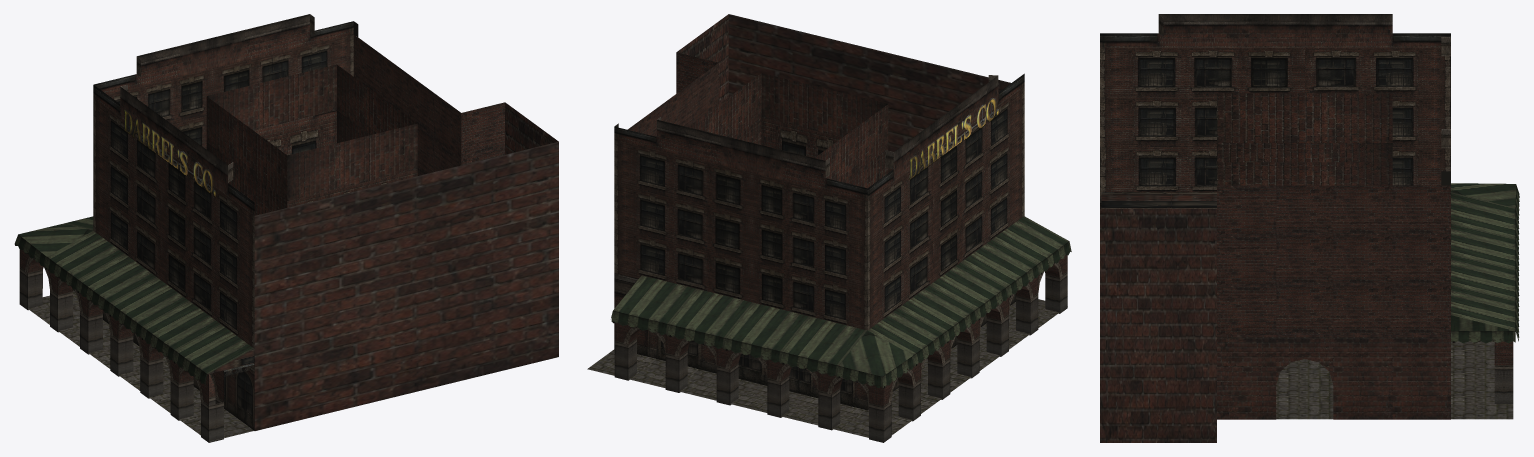
3 renders of one model, left to right at view 1: azimuth 30°, elevation 25°; view 2: azimuth 150°, elevation 25°; view 3: azimuth 270°, elevation 25°, orthographic. The views are drawn at different scales.
Parts seen in each view (by area): view 1: B003; view 2: B003; view 3: B003.
Boxes of the visible parts, bbox=[...] form: B003: bbox=[14, 14, 558, 442]; B003: bbox=[587, 14, 1071, 442]; B003: bbox=[1100, 14, 1519, 442].
Size of the model in its own units: 8.07 by 5.41 by 7.64.
2 materials, 2 textured.
